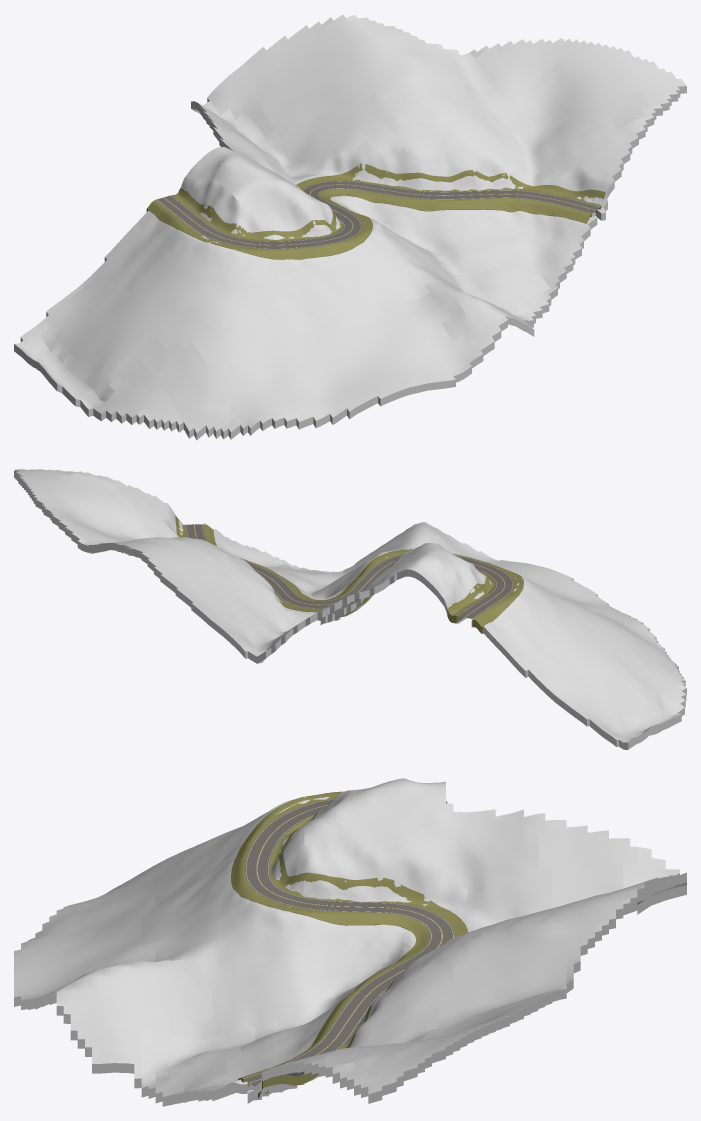
The model's file is conz_175.glb.
3 views of the same model, one above another, from view 1: azimuth 30°, elevation 25°; view 2: azimuth 150°, elevation 25°; view 3: azimuth 270°, elevation 25° (orthographic). The views are drawn at different scales.
Parts seen in each view (by area): view 1: terrain175, verge175L, road175, verge175R; view 2: terrain175, road175, verge175L, verge175R; view 3: terrain175, road175, verge175L, verge175R, paint_white175, paint_yellow175.
Part boxes in pixels (x1,y1,x2,y2): terrain175: (14,14,686,440); verge175L: (146,188,591,259); road175: (156,181,599,248); verge175R: (171,163,605,241); terrain175: (14,469,686,749); road175: (185,524,513,618); verge175L: (203,524,523,633); verge175R: (175,515,495,622); terrain175: (14,778,686,1106); road175: (243,799,454,1086); verge175L: (231,791,430,1086); verge175R: (257,801,467,1098); paint_white175: (244,799,453,1078); paint_yellow175: (249,805,442,1083).
Bounding box in the file's own units: 278 × 76.93 × 190.
